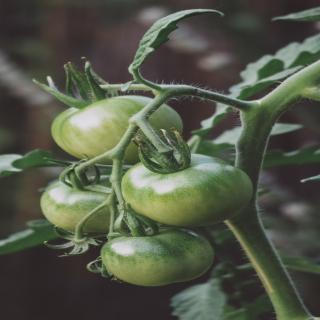tomato: (49, 56, 187, 168), (115, 127, 258, 229), (99, 209, 214, 290), (37, 157, 119, 235)
